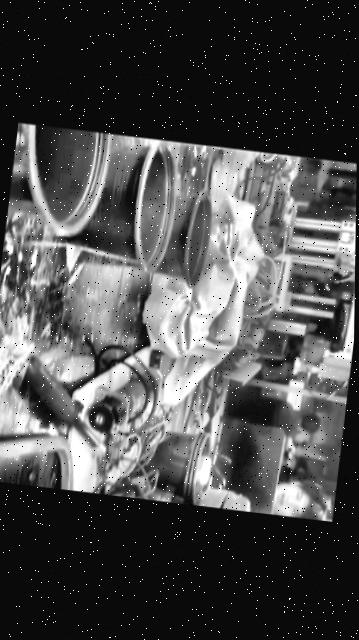pot: (64, 142, 174, 269), (6, 122, 109, 230), (146, 192, 211, 286), (144, 433, 209, 504)
